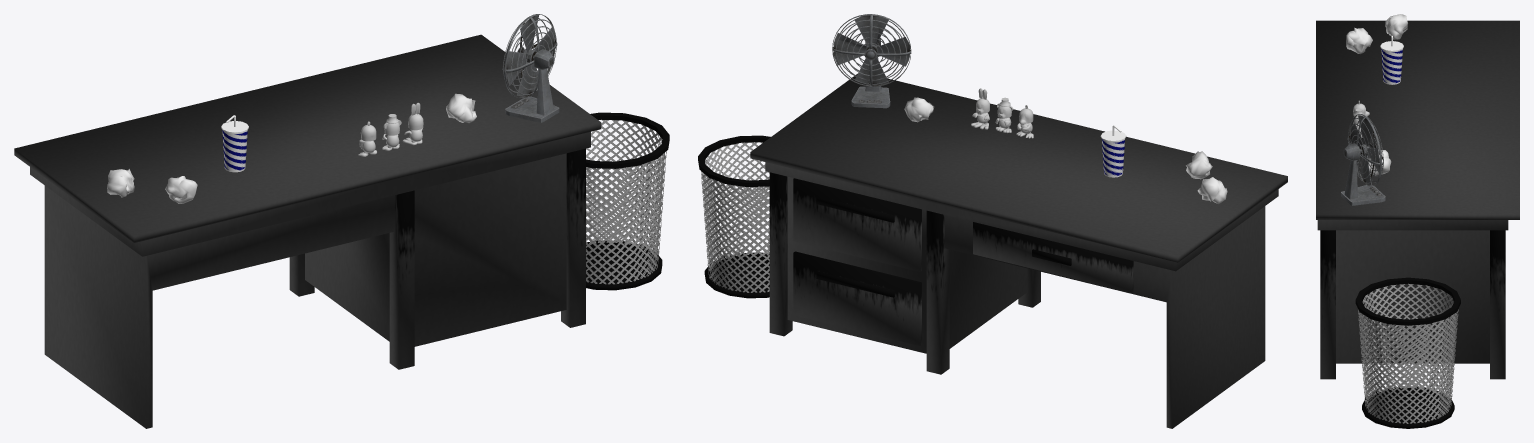
Rendered from Desk.fbx.
The picture shows the model from 3 angles, left to right: view 1: azimuth 30°, elevation 25°; view 2: azimuth 150°, elevation 25°; view 3: azimuth 270°, elevation 25°; orthographic projection. The views are drawn at different scales.
Visible parts, largest first — view 1: Desk_Low, TrashCan, DeskFan, FanBlade, Cup, PaperBall_Desk1, PaperBall_Desk2, PaperBall_Desk3; view 2: Desk_Low, TrashCan, DeskFan, FanBlade, Cup, PaperBall_Desk3; view 3: Desk_Low, TrashCan, DeskFan, FanBlade, Cup, PaperBall_Desk2, PaperBall_Desk3, PaperBall_Desk1.
Boxes of the visible parts, x1,y1,x2,y2 form: Desk_Low: [14, 34, 601, 428]; TrashCan: [586, 112, 669, 290]; DeskFan: [502, 14, 559, 122]; FanBlade: [506, 15, 555, 96]; Cup: [221, 115, 248, 172]; PaperBall_Desk1: [446, 93, 476, 122]; PaperBall_Desk2: [165, 176, 197, 203]; PaperBall_Desk3: [107, 169, 134, 197]; Desk_Low: [750, 73, 1287, 428]; TrashCan: [698, 135, 770, 298]; DeskFan: [832, 14, 911, 108]; FanBlade: [833, 15, 910, 85]; Cup: [1100, 125, 1126, 177]; PaperBall_Desk3: [1197, 177, 1227, 203]; Desk_Low: [1316, 20, 1519, 379]; TrashCan: [1355, 277, 1460, 428]; DeskFan: [1341, 114, 1385, 205]; FanBlade: [1350, 115, 1379, 184]; Cup: [1380, 35, 1403, 84]; PaperBall_Desk2: [1346, 27, 1372, 53]; PaperBall_Desk3: [1385, 14, 1407, 39]; PaperBall_Desk1: [1368, 150, 1391, 175].
Bounding box in the file's own units: 367 × 178 × 131.
